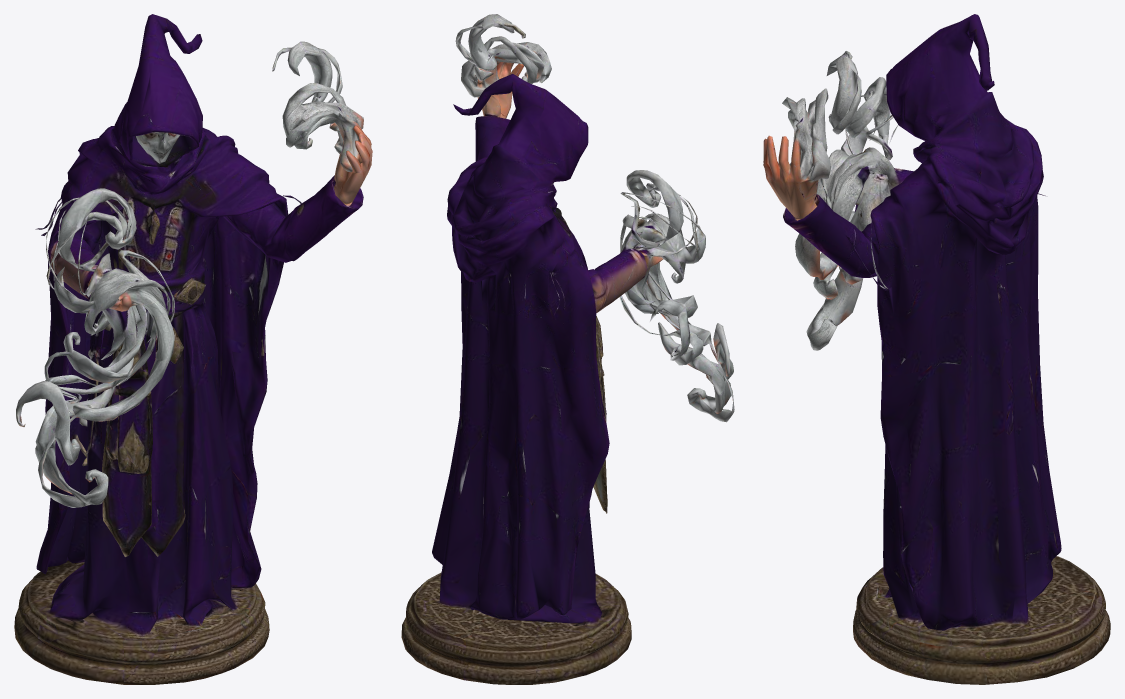
File: illusionists.glb
3 views of the same model, side by side, from view 1: azimuth 30°, elevation 25°; view 2: azimuth 150°, elevation 25°; view 3: azimuth 270°, elevation 25° (orthographic). The views are drawn at different scales.
Bounding box in the file's own units: 1.04 × 1.9 × 0.9639.
1 material, 1 textured.
